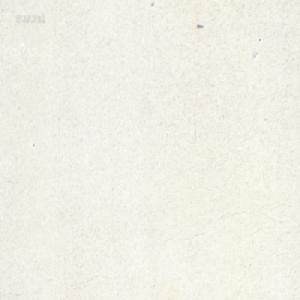Nail: (197, 22, 203, 28)
